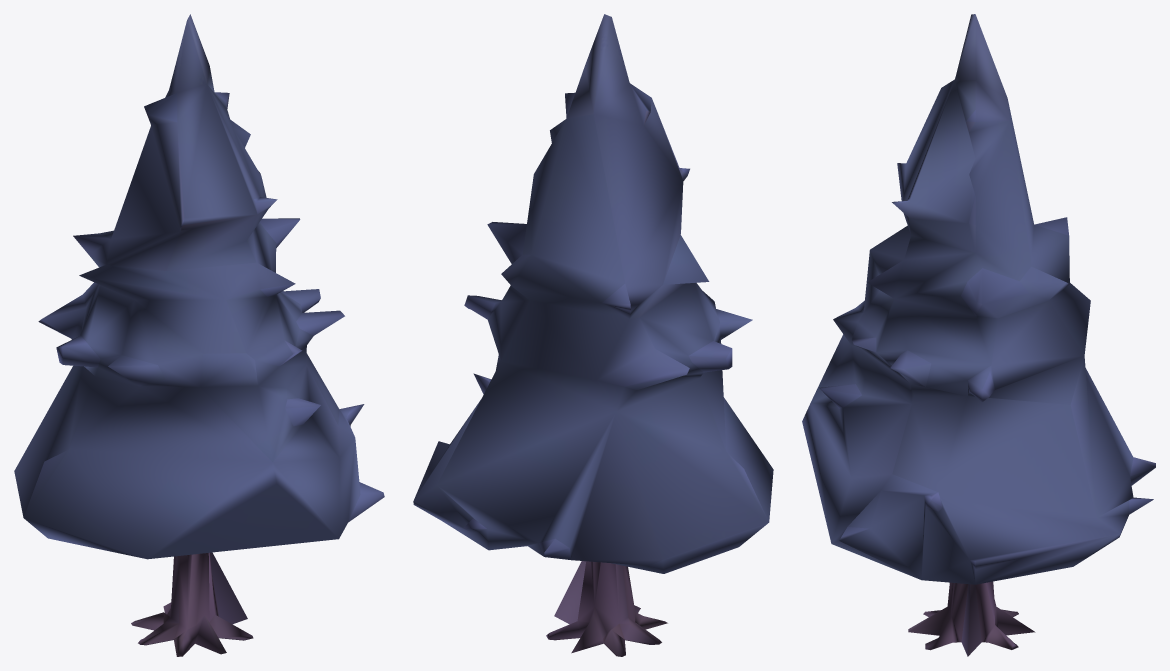
File: model.progressive.glb
3 views of the same model, side by side, from view 1: azimuth 30°, elevation 25°; view 2: azimuth 150°, elevation 25°; view 3: azimuth 270°, elevation 25° (orthographic).
Parts seen in each view (by area): view 1: material; view 2: material; view 3: material.
Part boxes in pixels (bbox=[...]): material: bbox=[14, 14, 384, 656]; material: bbox=[413, 14, 773, 656]; material: bbox=[802, 14, 1155, 656].
Bounding box in the file's own units: 1.07 × 1.9 × 0.9881.
Materials: 1 (1 with a texture image).
